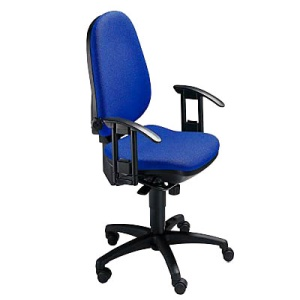chair: (85, 10, 235, 295)
